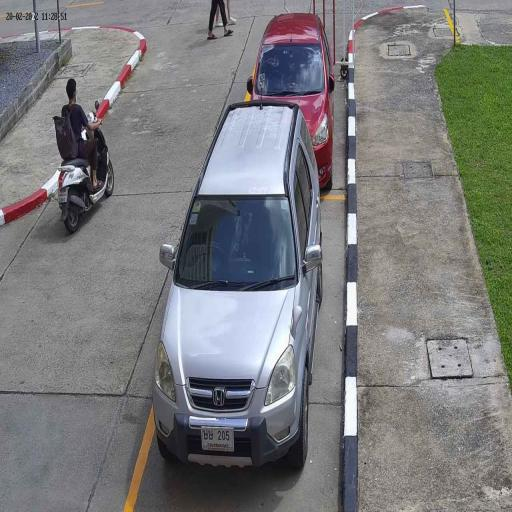car: (153, 100, 323, 471), (246, 13, 336, 193)
motorcycle: (56, 150, 114, 234)
